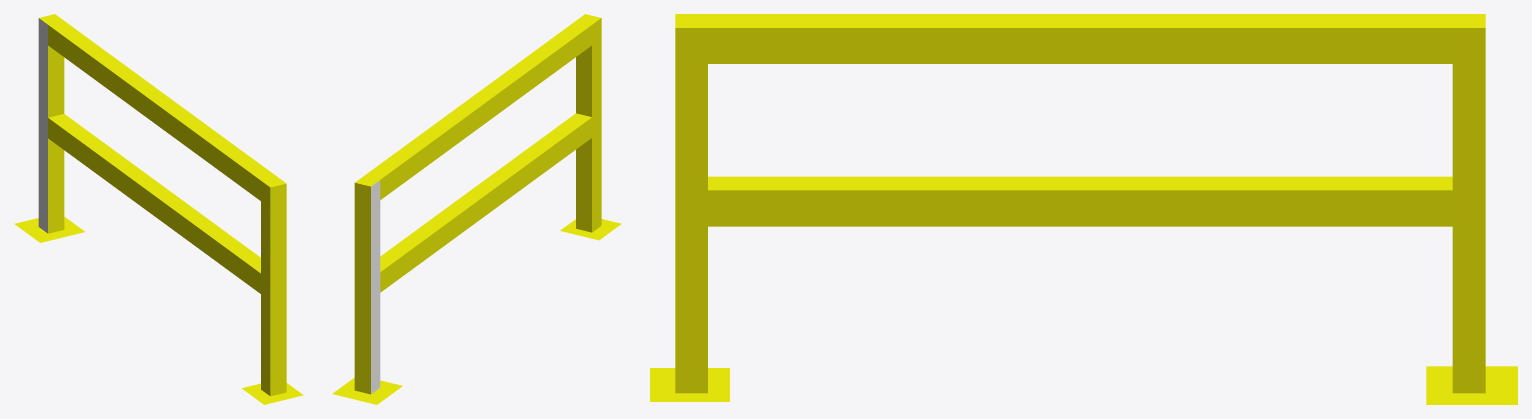
The picture shows the model from 3 angles, left to right: view 1: azimuth 30°, elevation 25°; view 2: azimuth 150°, elevation 25°; view 3: azimuth 270°, elevation 25°; orthographic projection. The views are drawn at different scales.
Parts seen in each view (by area): view 1: SketchUp (×2), group_0, group_1; view 2: SketchUp (×2), group_0, group_1; view 3: SketchUp, group_0, group_1.
Boxes of the visible parts, left/top/right/bottom form: SketchUp (×2): left=38, top=14, right=286, bottom=396; group_0: left=14, top=216, right=84, bottom=242; group_1: left=242, top=383, right=303, bottom=404; SketchUp (×2): left=354, top=14, right=601, bottom=394; group_0: left=332, top=378, right=402, bottom=404; group_1: left=560, top=219, right=621, bottom=240; SketchUp: left=675, top=14, right=1485, bottom=393; group_0: left=1426, top=366, right=1517, bottom=404; group_1: left=650, top=368, right=729, bottom=401.
Size of the model in its own units: 8.35 by 79.23 by 36.81.
